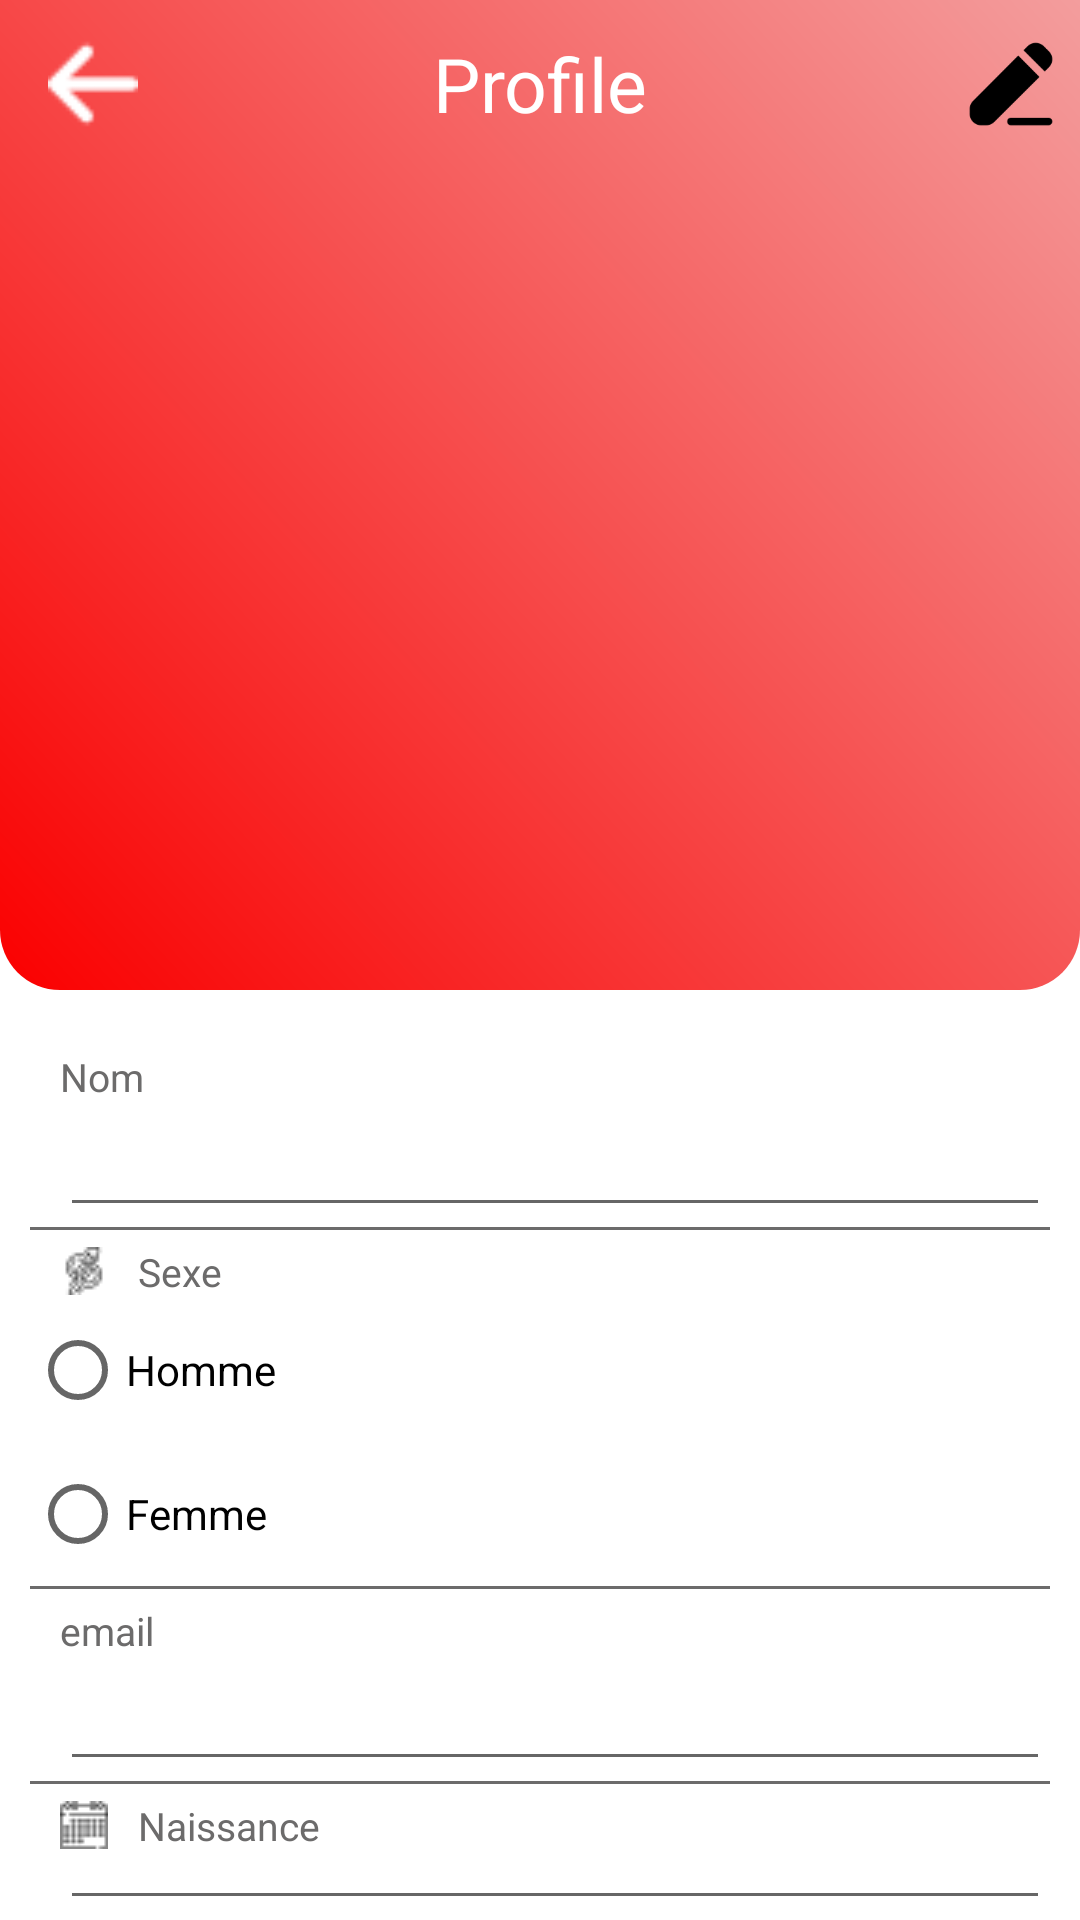

Screen size 1080x1920. Icon name, then its center in pixels as [x,y]:
arrow: [93,83]
